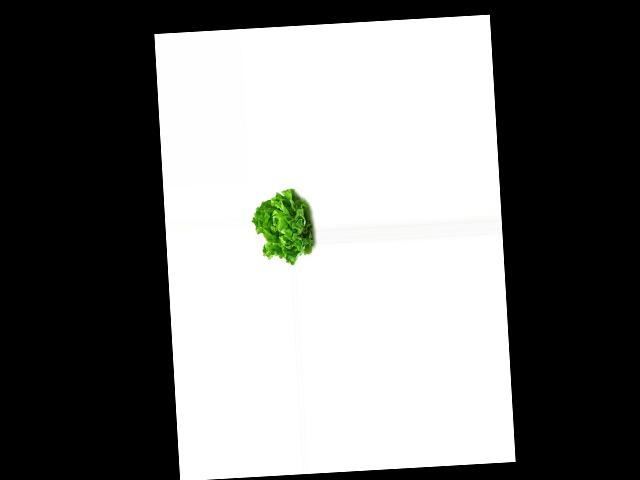lettuce: (250, 189, 316, 266)
